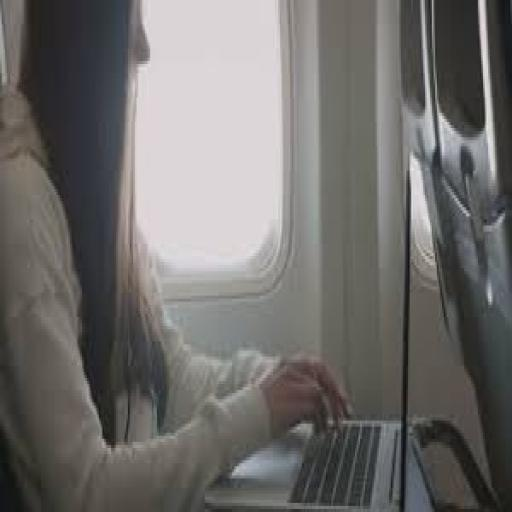using_laptop: (194, 137, 512, 512)
